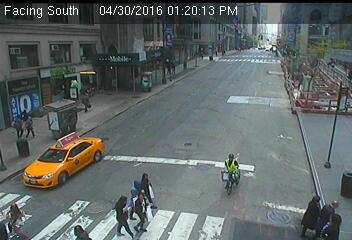neg: (209, 148, 245, 196), (106, 102, 141, 149), (223, 95, 254, 136), (170, 87, 201, 127), (274, 54, 300, 88), (218, 58, 235, 82), (312, 108, 329, 131)
pos: (287, 190, 322, 237), (101, 194, 134, 238), (2, 111, 23, 139), (20, 112, 40, 139), (76, 88, 94, 112)
